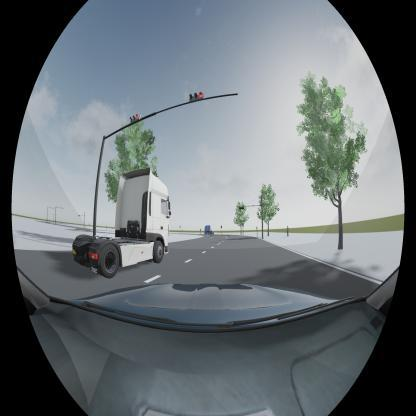Green Light: (239, 206, 247, 211)
Red Light: (188, 92, 205, 102), (129, 114, 142, 122)
